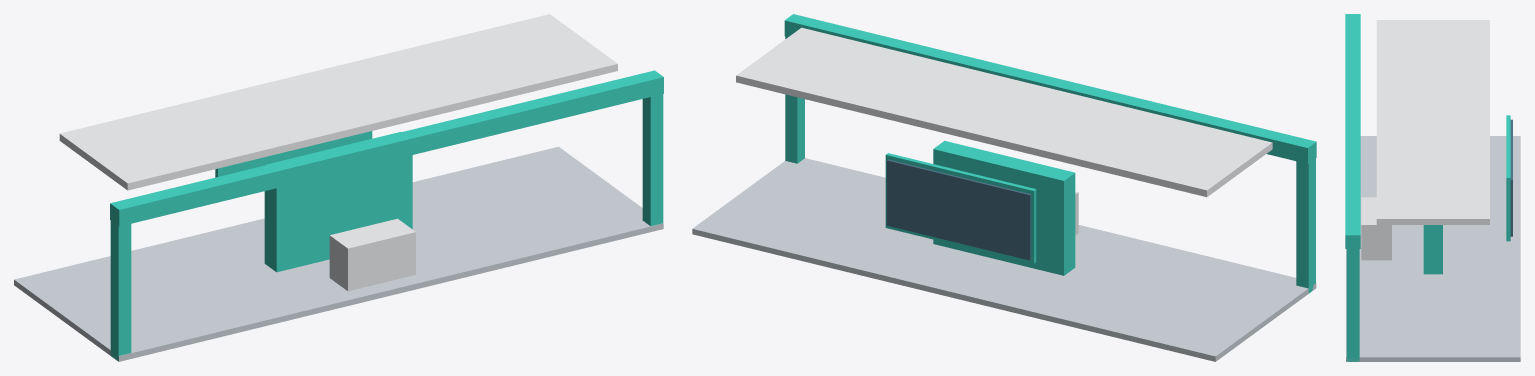
3 renders of one model, left to right at view 1: azimuth 30°, elevation 25°; view 2: azimuth 150°, elevation 25°; view 3: azimuth 270°, elevation 25°, orthographic. The views are drawn at different scales.
Visible parts, largest first — view 1: Exhibition Booth Concept; view 2: Exhibition Booth Concept; view 3: Exhibition Booth Concept.
Part boxes in pixels (bbox=[...]): Exhibition Booth Concept: bbox=[14, 14, 663, 361]; Exhibition Booth Concept: bbox=[692, 14, 1316, 361]; Exhibition Booth Concept: bbox=[1345, 14, 1520, 361].
Size of the model in its own units: 12 by 3.34 by 4.02.
